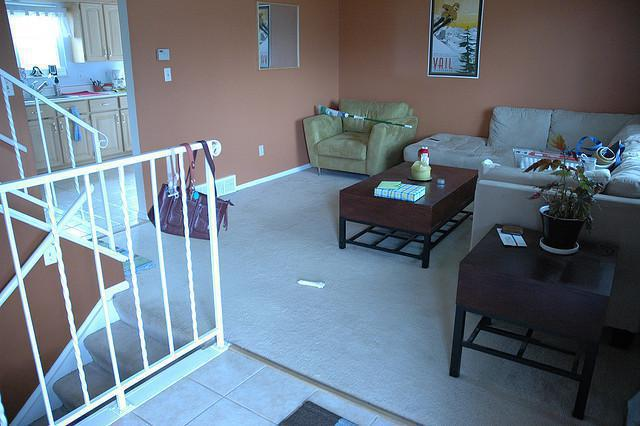Escaleras: (0, 135, 212, 425), (0, 69, 127, 260)
Lavaplatos: (11, 70, 72, 105)
